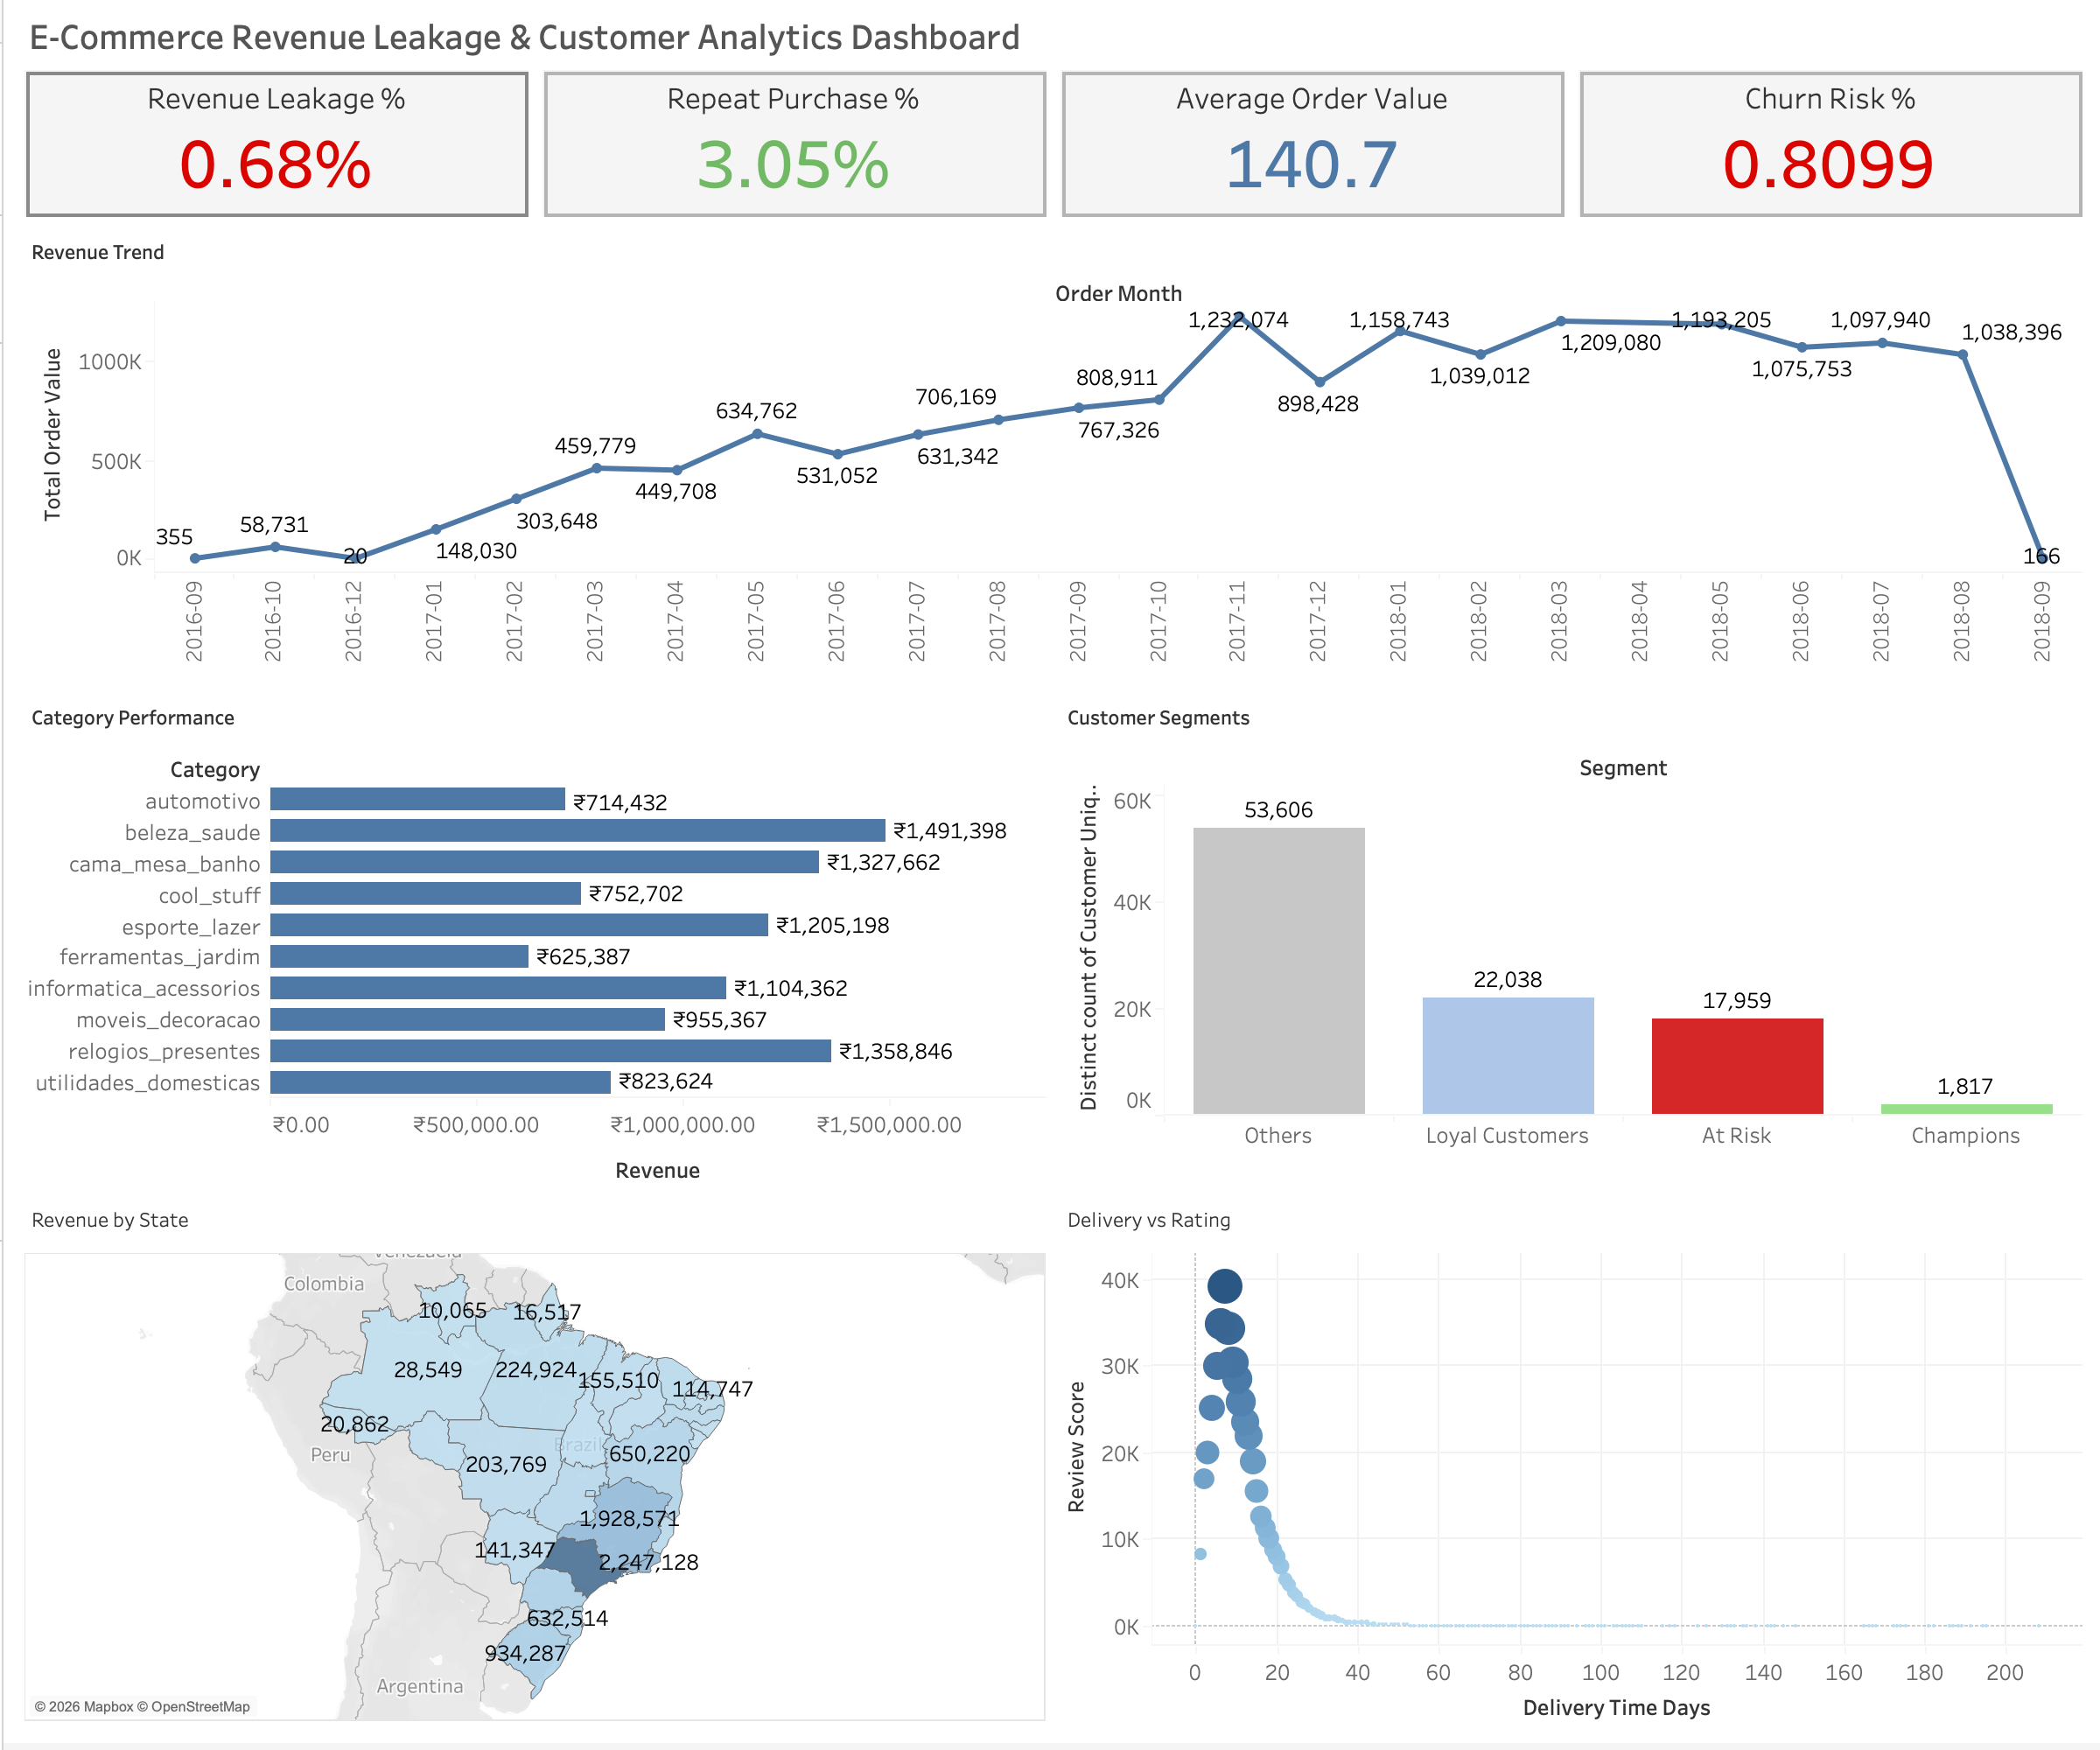

The dashboard page shown, as its layout file describes it:
{"tool":"tableau","page":{"name":"Dashboard 1","canvas":[1200,1000],"ordinal":0},"visuals":[{"type":"text","box":[8,8,1184,32]},{"type":"worksheet","title":"Revenue Leakage %","mark":"Automatic","box":[8,40,296,92]},{"type":"worksheet","title":"Repeat Purchase %","mark":"Automatic","box":[304,40,296,92]},{"type":"worksheet","title":"Average Order Value","mark":"Automatic","box":[600,40,296,92]},{"type":"worksheet","title":"Churn Risk %","mark":"Automatic","box":[896,40,296,92]},{"type":"worksheet","title":"Revenue Trend","mark":"Line","rows":["total_order_value"],"cols":["order_month"],"box":[8,132,1184,265.9]},{"type":"worksheet","title":"Category Performance","mark":"Bar","rows":["Category"],"cols":["Revenue"],"box":[8,397.9,591.8,287.1]},{"type":"worksheet","title":"Customer Segments","mark":"Automatic","rows":["customer_unique_id"],"cols":["Segment"],"box":[599.8,397.9,592.2,287.1]},{"type":"worksheet","title":"Revenue by State","mark":"Automatic","box":[8,685,592,307]},{"type":"worksheet","title":"Delivery vs Rating","mark":"Circle","rows":["review_score"],"cols":["delivery_time_days"],"box":[600,685,592,307]}]}

Visuals, with their boxes in screenshot pixels (x1, y1, x2, y2), scaled from the page's 1200x1000 canvas onto the 2100x1750 screenshot:
text: Rect(14, 14, 2086, 70)
"Revenue Leakage %" worksheet: Rect(14, 70, 532, 231)
"Repeat Purchase %" worksheet: Rect(532, 70, 1050, 231)
"Average Order Value" worksheet: Rect(1050, 70, 1568, 231)
"Churn Risk %" worksheet: Rect(1568, 70, 2086, 231)
"Revenue Trend" worksheet (Line marks): Rect(14, 231, 2086, 696)
"Category Performance" worksheet (Bar marks): Rect(14, 696, 1050, 1199)
"Customer Segments" worksheet: Rect(1050, 696, 2086, 1199)
"Revenue by State" worksheet: Rect(14, 1199, 1050, 1736)
"Delivery vs Rating" worksheet (Circle marks): Rect(1050, 1199, 2086, 1736)
